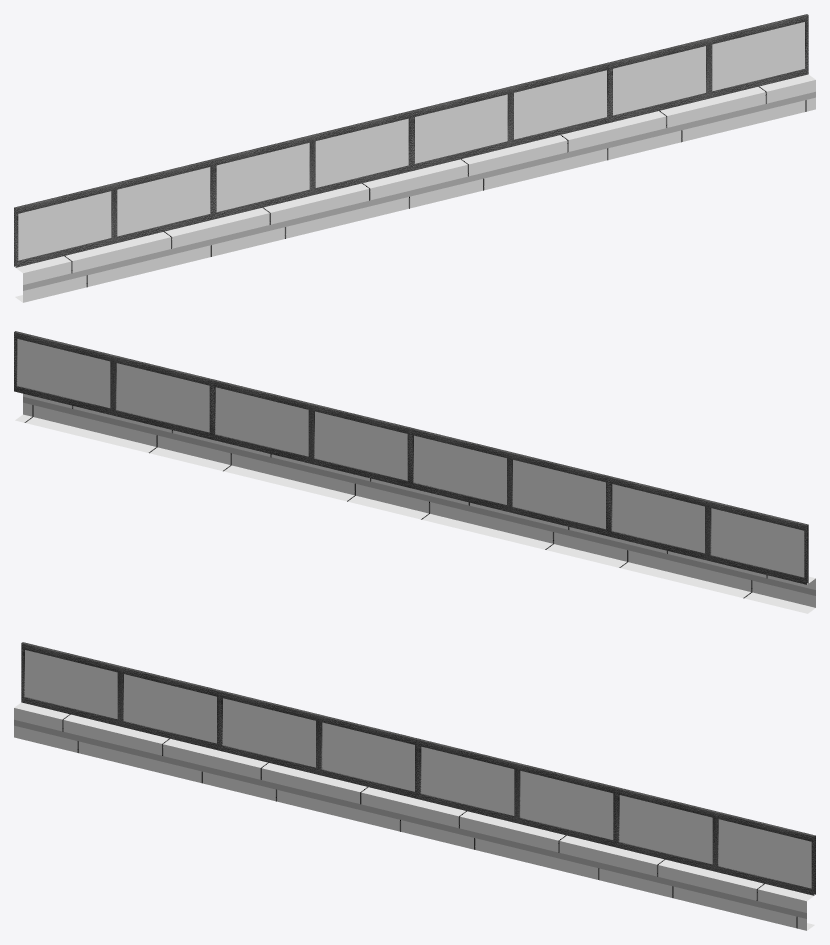
The model's file is Parapet02_1400cm.FBX.
3 renders of one model, top to bottom at view 1: azimuth 30°, elevation 25°; view 2: azimuth 150°, elevation 25°; view 3: azimuth 330°, elevation 25°, orthographic.
Parts seen in each view (by area): view 1: Parapet02_1400cm; view 2: Parapet02_1400cm; view 3: Parapet02_1400cm.
Part boxes in pixels (x1,y1,x2,y2): Parapet02_1400cm: (14,14,815,302); Parapet02_1400cm: (14,331,815,613); Parapet02_1400cm: (14,642,815,930).
Size of the model in its own units: 1400 by 150 by 27.5.
